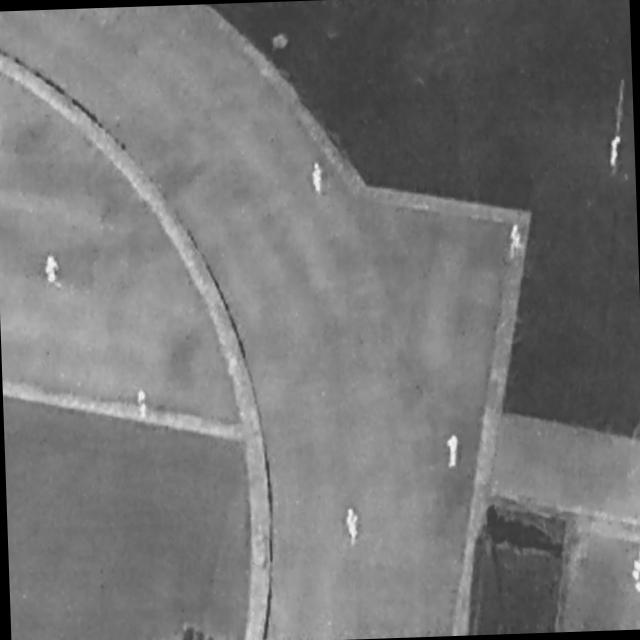person: (343, 506, 363, 547), (606, 130, 624, 171), (308, 159, 327, 195), (508, 221, 526, 259), (43, 253, 62, 286), (445, 432, 460, 471), (137, 389, 150, 422)
